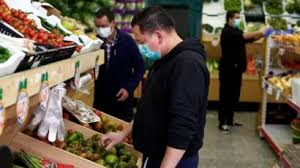Good: (131, 9, 267, 168), (92, 8, 209, 168)
